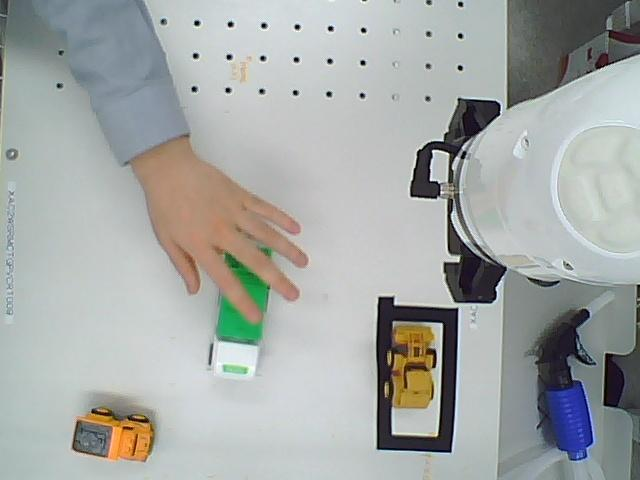Diesel car: (67, 403, 147, 464)
Electric car: (215, 238, 275, 381)
Gasoline car: (377, 321, 439, 417)
